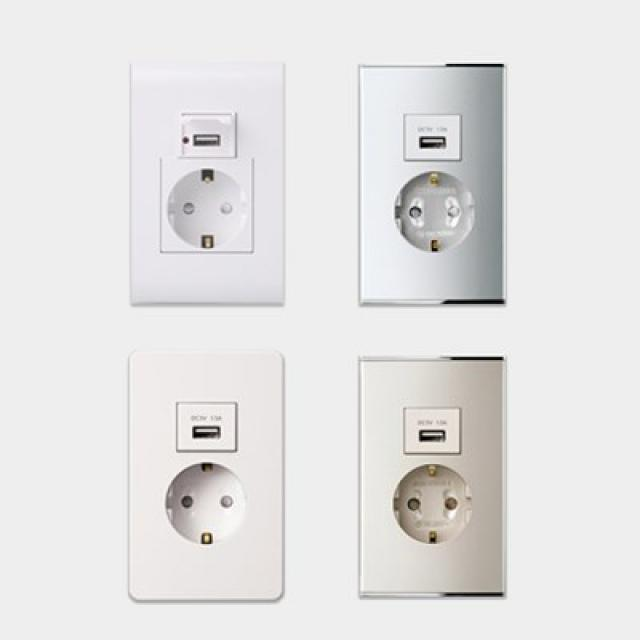typeb: (107, 38, 305, 326), (112, 342, 306, 615), (339, 42, 528, 312), (343, 350, 528, 600)
